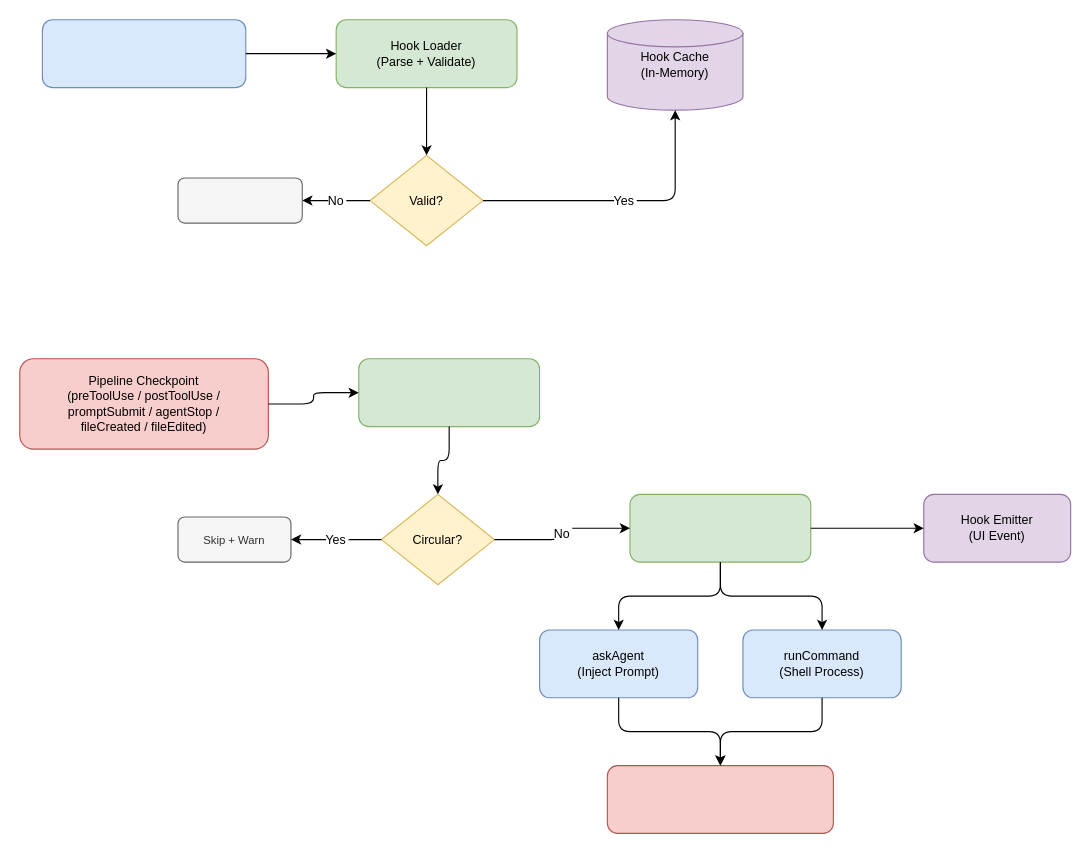
This 1090x853 diagram has some shape labels left out. Each missing label, with the box of its shape:
Hook Definition Files (.kiro/hooks/*.json): (41, 19, 246, 88)
Hook Engine (Event Matching): (358, 358, 540, 427)
Hook Executor: (629, 493, 811, 562)
Log Error + Skip: (177, 177, 302, 223)
Pipeline Continues (injected prompts / denial): (606, 764, 833, 833)
